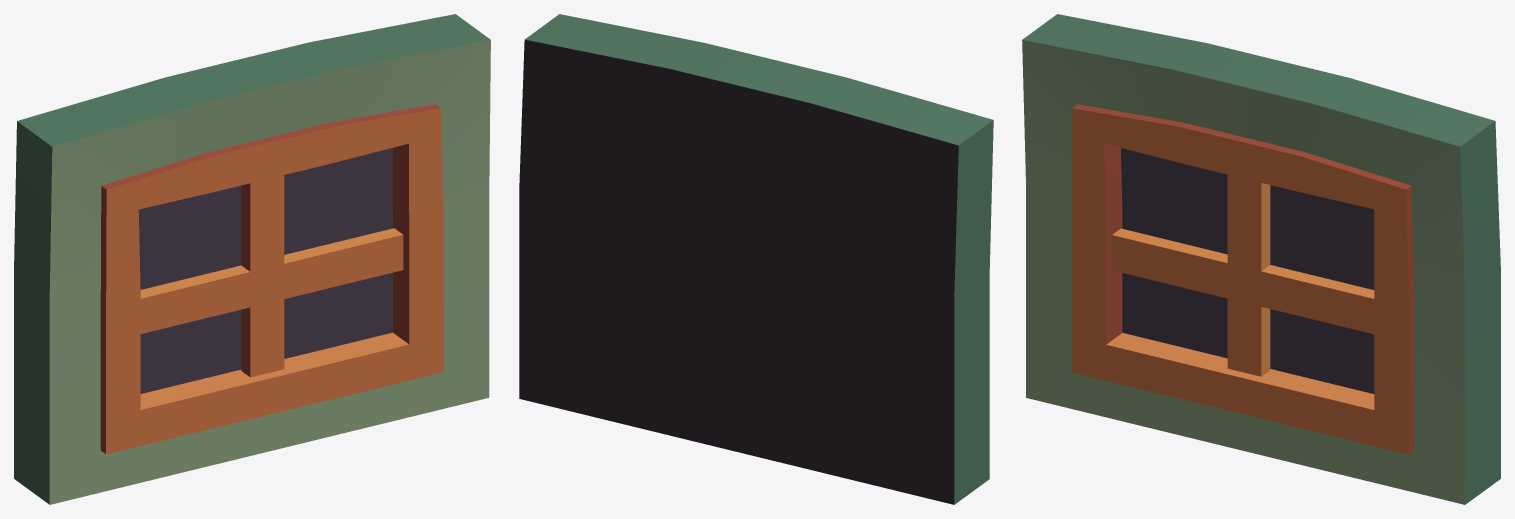
File: Window02_Green_Wood.glb
The picture shows the model from 3 angles, left to right: view 1: azimuth 30°, elevation 25°; view 2: azimuth 150°, elevation 25°; view 3: azimuth 330°, elevation 25°; orthographic projection.
Parts seen in each view (by area): view 1: Window02_Green_Wood; view 2: Window02_Green_Wood; view 3: Window02_Green_Wood.
Boxes of the visible parts, x1,y1,x2,y2 form: Window02_Green_Wood: (14,14,490,504); Window02_Green_Wood: (519,14,993,504); Window02_Green_Wood: (1022,14,1500,504).
Size of the model in its own units: 0.9012 by 0.7186 by 0.1456.
Materials: 1 (1 with a texture image).
